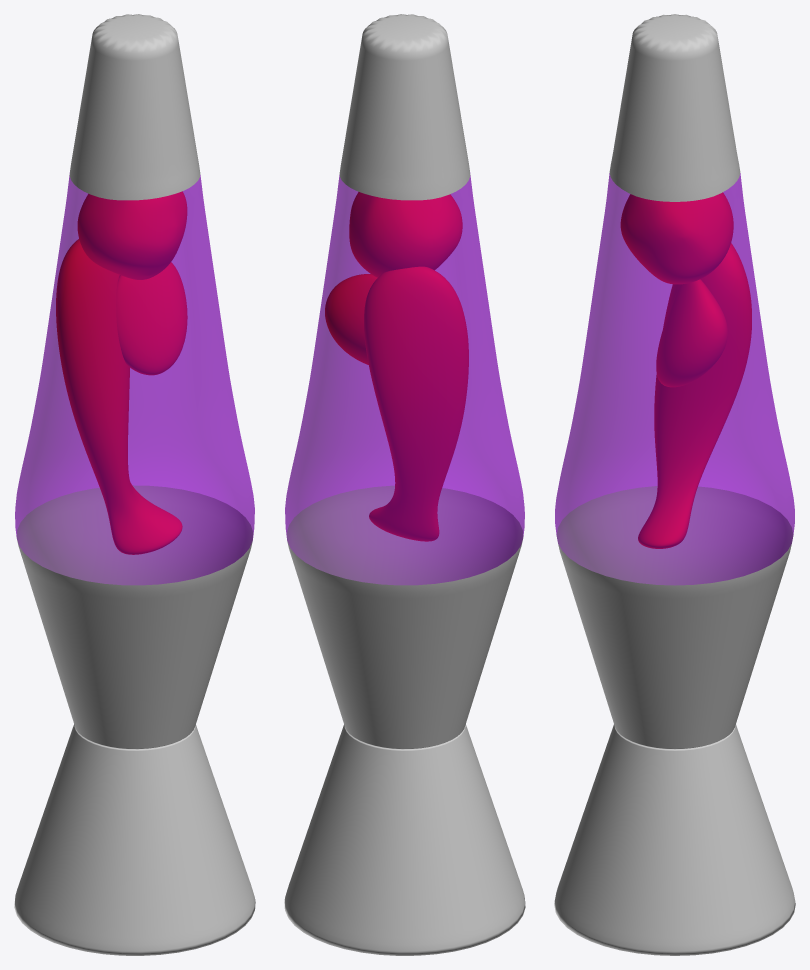
File: lavalamp.fbx
3 views of the same model, side by side, from view 1: azimuth 30°, elevation 25°; view 2: azimuth 150°, elevation 25°; view 3: azimuth 270°, elevation 25° (orthographic).
Visible parts, largest first — view 1: pCylinder1, pCube2, sphere, pCube1; view 2: pCylinder1, pCube2, sphere, pCube1; view 3: pCylinder1, pCube2, sphere, pCube1.
Part boxes in pixels (<box>): pCylinder1: <box>14,14,255,955</box>; pCube2: <box>56,239,182,554</box>; sphere: <box>77,191,187,279</box>; pCube1: <box>116,262,187,375</box>; pCylinder1: <box>284,14,525,955</box>; pCube2: <box>364,266,468,541</box>; sphere: <box>349,192,462,277</box>; pCube1: <box>325,274,377,364</box>; pCylinder1: <box>554,14,795,955</box>; pCube2: <box>638,243,751,548</box>; sphere: <box>620,192,733,284</box>; pCube1: <box>656,279,727,387</box>.
Bounding box in the file's own units: 3.62 × 14.57 × 3.62.
